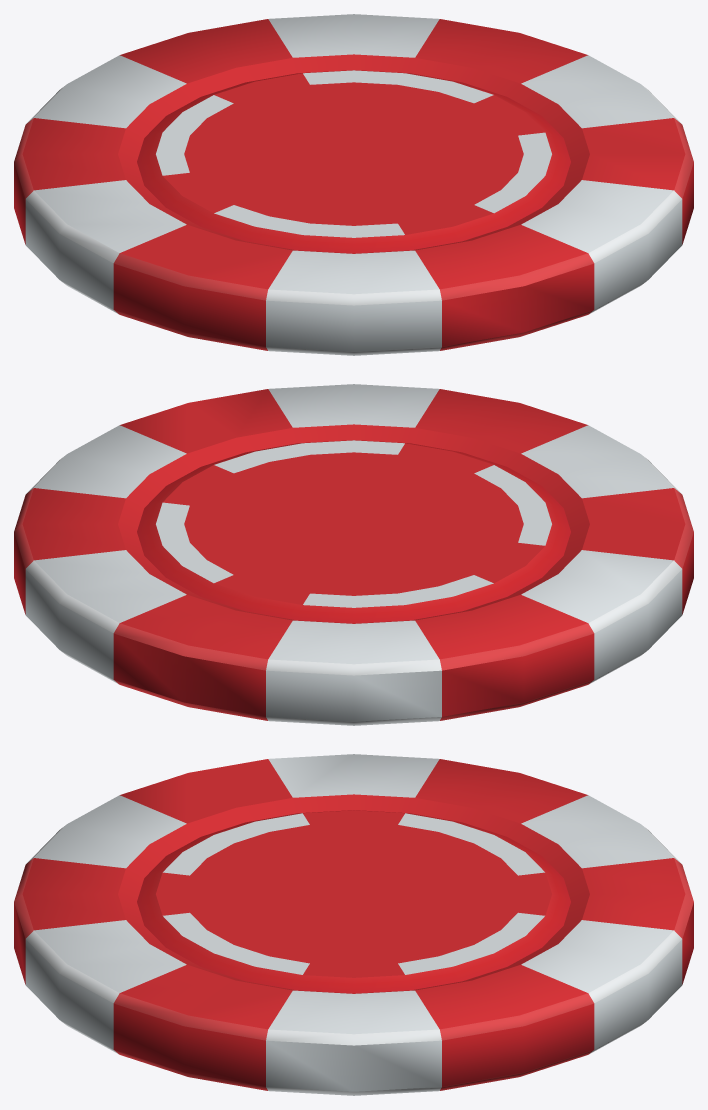
The model's file is chip_A_red.gltf.
3 renders of one model, top to bottom at view 1: azimuth 30°, elevation 25°; view 2: azimuth 150°, elevation 25°; view 3: azimuth 270°, elevation 25°, orthographic.
Visible parts, largest first — view 1: chip_A_red; view 2: chip_A_red; view 3: chip_A_red.
Boxes of the visible parts, left/top/right/bottom form: chip_A_red: left=14, top=14, right=693, bottom=355; chip_A_red: left=14, top=384, right=693, bottom=725; chip_A_red: left=14, top=754, right=693, bottom=1095.
Bounding box in the file's own units: 3 × 0.3 × 3.
Materials: 1 (1 with a texture image).
